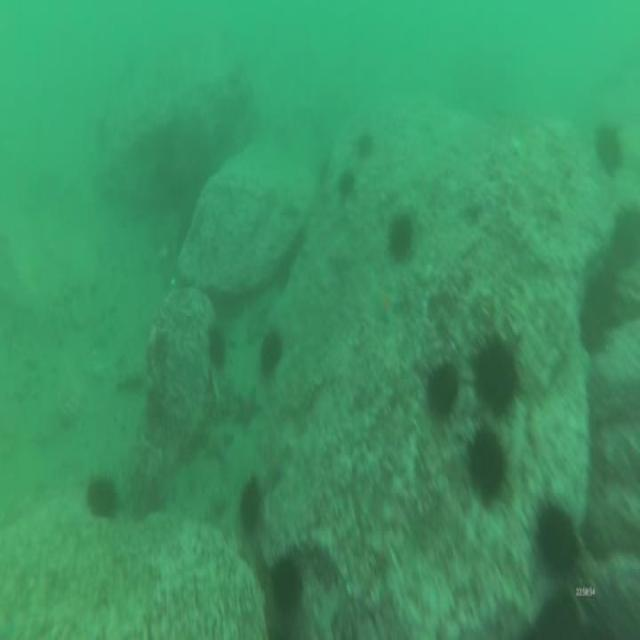echinus: (536, 501, 574, 569), (474, 348, 516, 408), (471, 427, 503, 493), (613, 204, 640, 259), (271, 553, 298, 608), (426, 365, 454, 417), (594, 122, 620, 164), (388, 212, 413, 254), (88, 480, 115, 516), (241, 485, 258, 528), (260, 332, 281, 366), (209, 327, 226, 367), (340, 170, 354, 190), (361, 134, 371, 155)
starfish: (230, 384, 260, 427), (201, 420, 232, 460), (332, 236, 361, 276), (373, 284, 399, 320)
